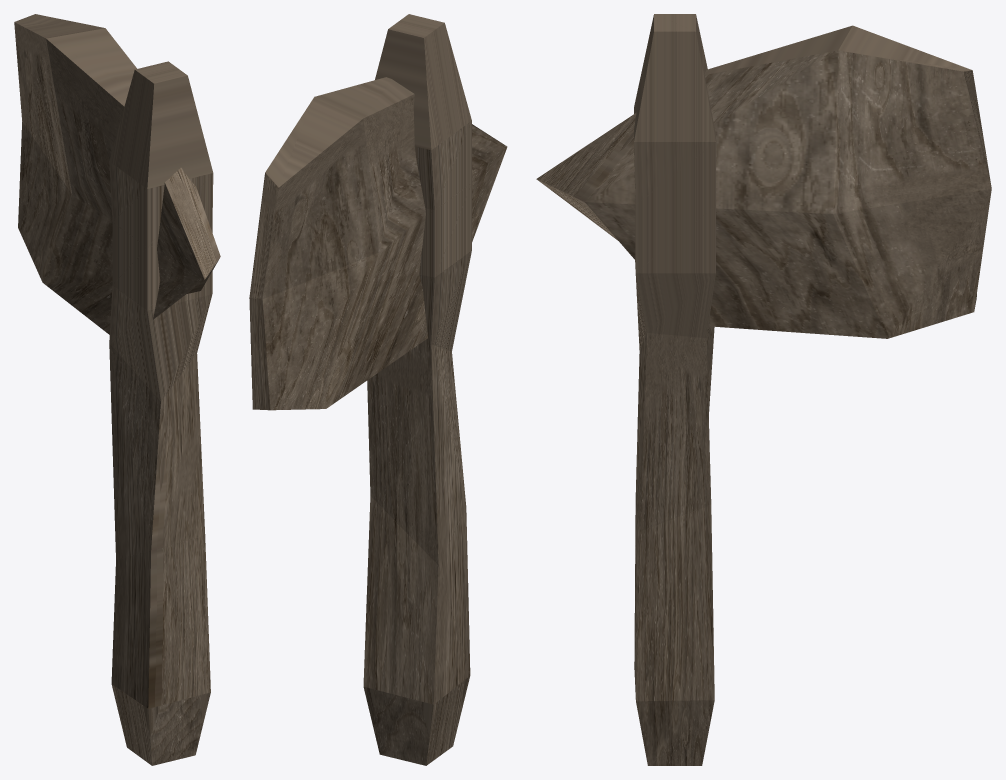
The model's file is ache.fbx.
The picture shows the model from 3 angles, left to right: view 1: azimuth 30°, elevation 25°; view 2: azimuth 150°, elevation 25°; view 3: azimuth 270°, elevation 25°; orthographic projection. The views are drawn at different scales.
Parts seen in each view (by area): view 1: Cube, Cube.001; view 2: Cube, Cube.001; view 3: Cube.001, Cube.
Boxes of the visible parts, x1=… form: Cube: x1=109, y1=61, x2=213, y2=765; Cube.001: x1=14, y1=14, x2=220, y2=334; Cube: x1=363, y1=14, x2=471, y2=765; Cube.001: x1=249, y1=77, x2=507, y2=410; Cube.001: x1=536, y1=25, x2=991, y2=338; Cube: x1=634, y1=14, x2=715, y2=765.
Size of the model in its own units: 38.38 by 351 by 198.
2 materials, 2 textured.
